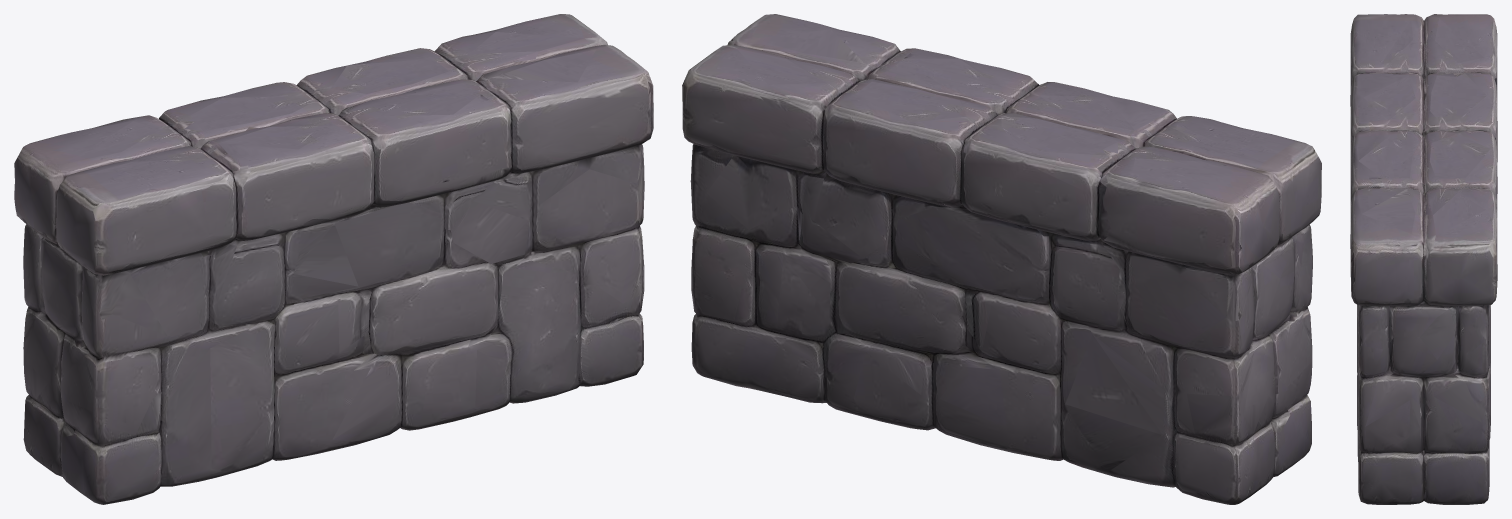
Rendered from wall.glb.
The picture shows the model from 3 angles, left to right: view 1: azimuth 30°, elevation 25°; view 2: azimuth 150°, elevation 25°; view 3: azimuth 270°, elevation 25°; orthographic projection. The views are drawn at different scales.
Parts seen in each view (by area): view 1: wall_section; view 2: wall_section; view 3: wall_section.
Part boxes in pixels (box(x1,y1,x2,y2)): wall_section: box(14, 14, 653, 504); wall_section: box(682, 14, 1321, 504); wall_section: box(1350, 14, 1497, 504).
Bounding box in the file's own units: 1.9 × 0.9997 × 0.4999.
1 material, 1 textured.
